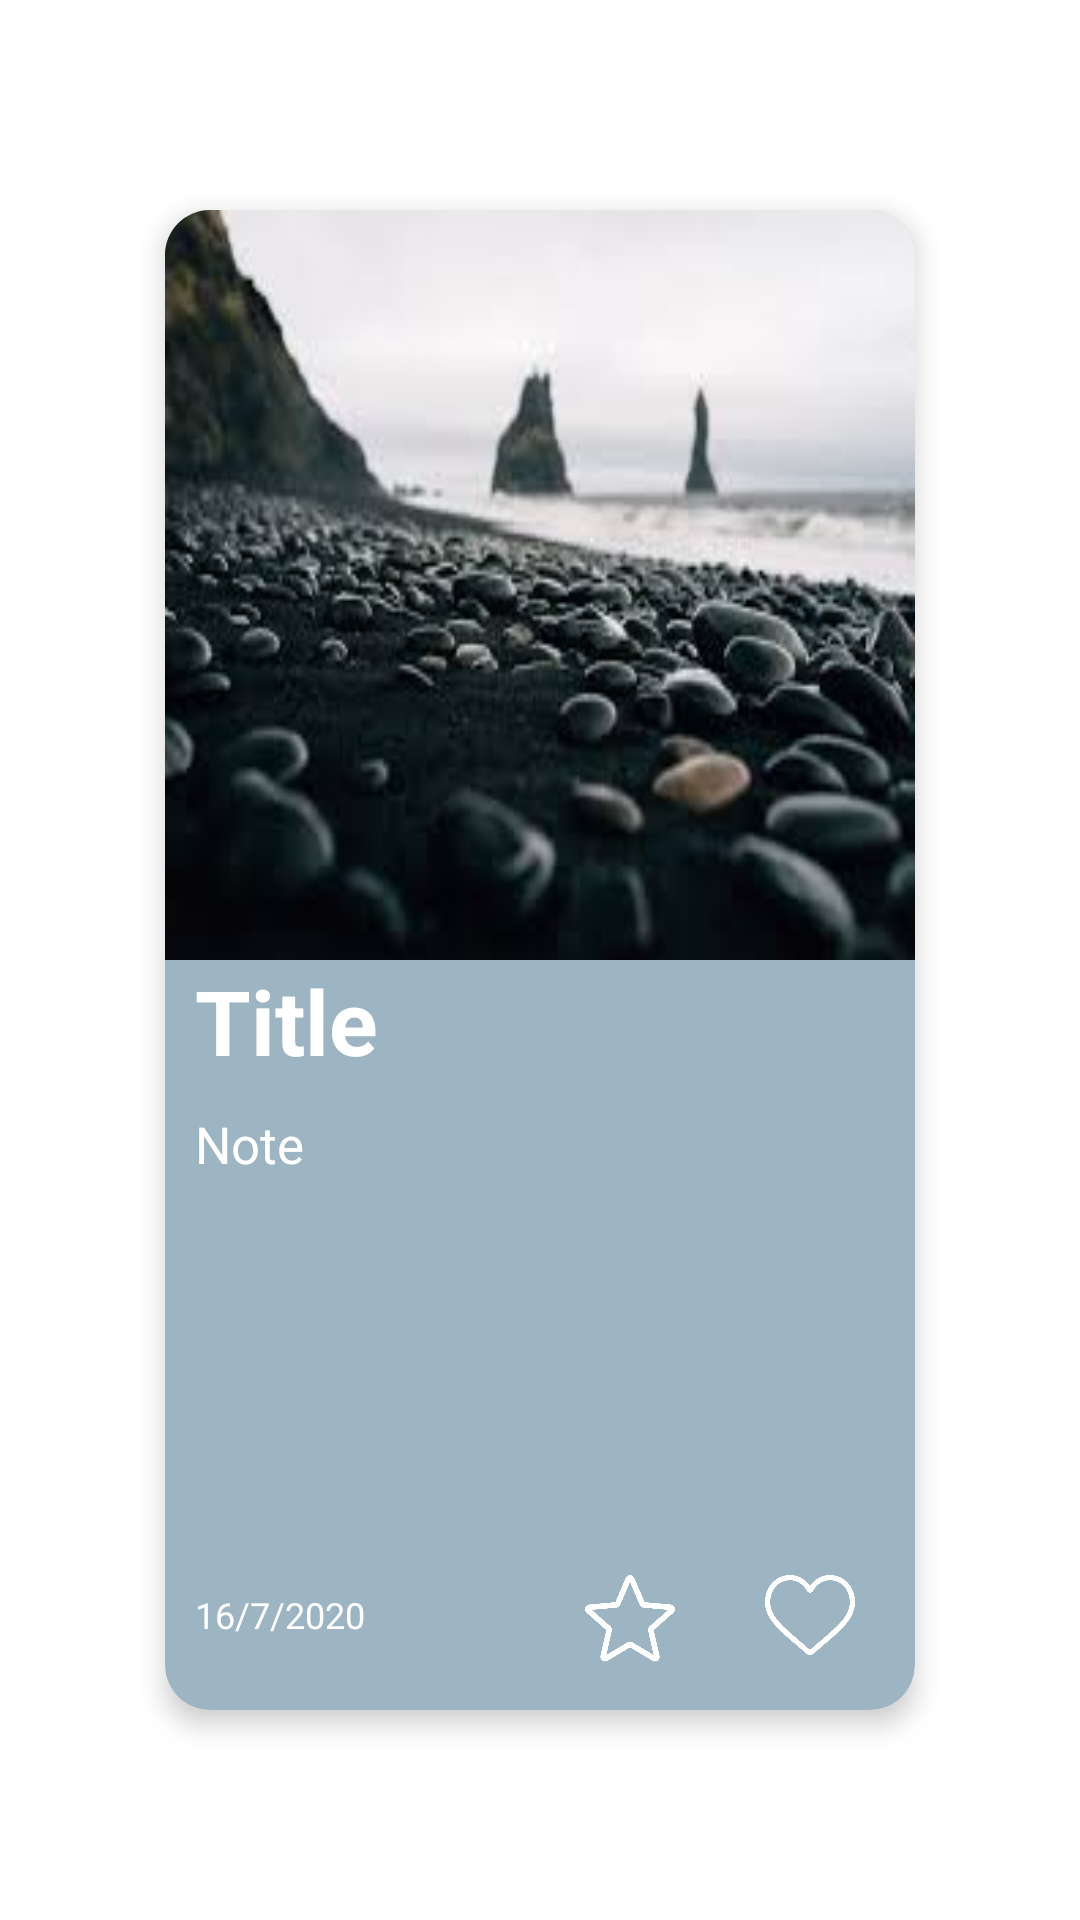

Where icons sit on this 1080 × 1920 app screen, as (x1, y1, x2, y2):
heart: (765, 1575, 855, 1655)
star: (585, 1575, 675, 1661)
